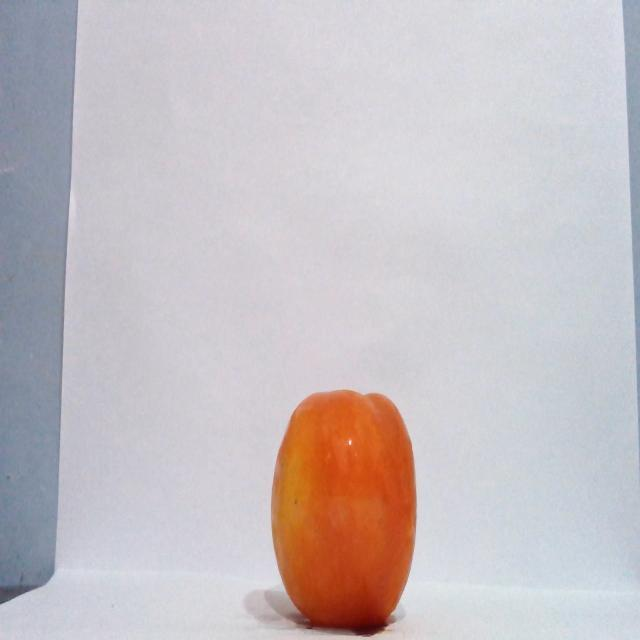Red: (269, 387, 417, 630)
